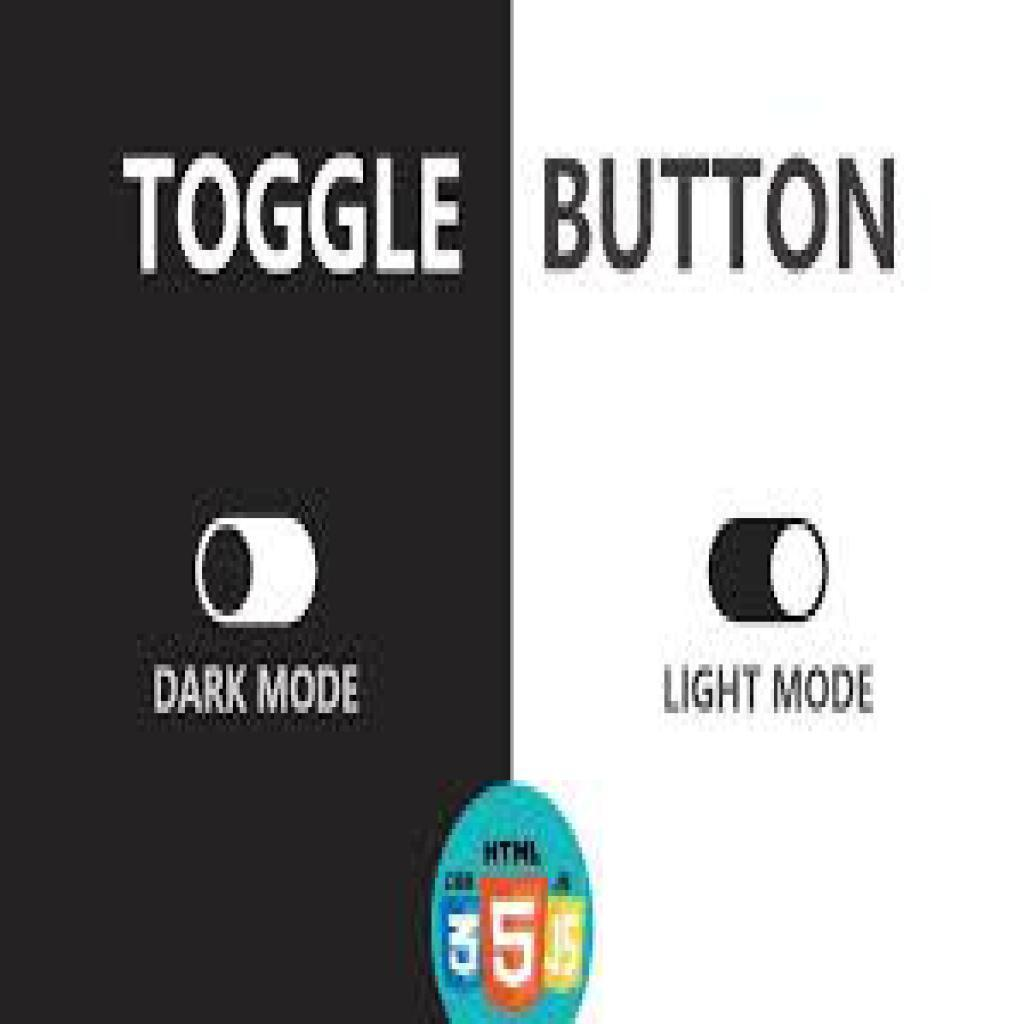switch: (197, 517, 318, 626), (707, 516, 829, 623)
